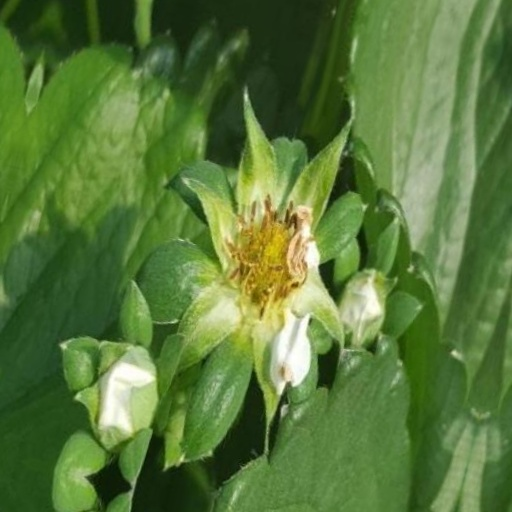Blossom Blight: (199, 192, 297, 319)
